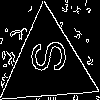S: (23, 39, 67, 76)
